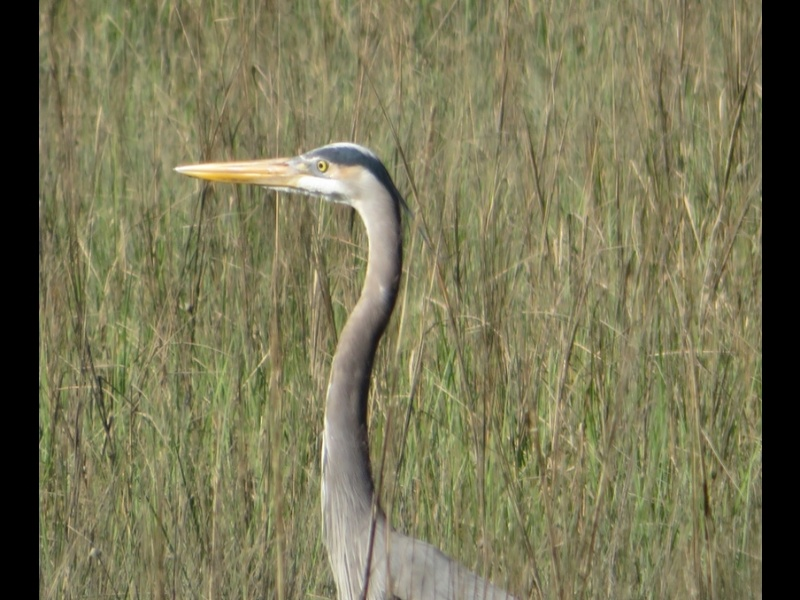heron: (167, 139, 528, 600)
